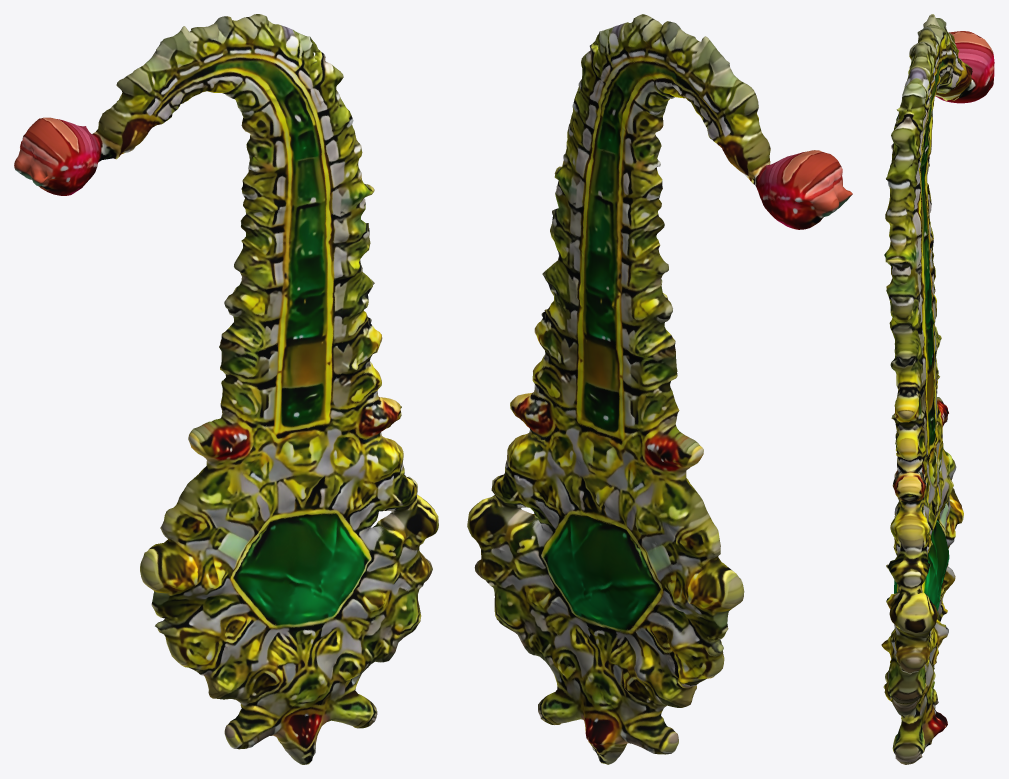
File: kfl-2229.glb
3 renders of one model, left to right at view 1: azimuth 30°, elevation 25°; view 2: azimuth 150°, elevation 25°; view 3: azimuth 270°, elevation 25°, orthographic. The views are drawn at different scales.
Parts seen in each view (by area): view 1: kfl-2229; view 2: kfl-2229; view 3: kfl-2229.
Boxes of the visible parts, <box> form: kfl-2229: <box>14,14,438,764</box>; kfl-2229: <box>467,14,852,764</box>; kfl-2229: <box>881,14,994,764</box>.
Bounding box in the file's own units: 0.5334 × 0.9863 × 0.1441.
1 material, 1 textured.
